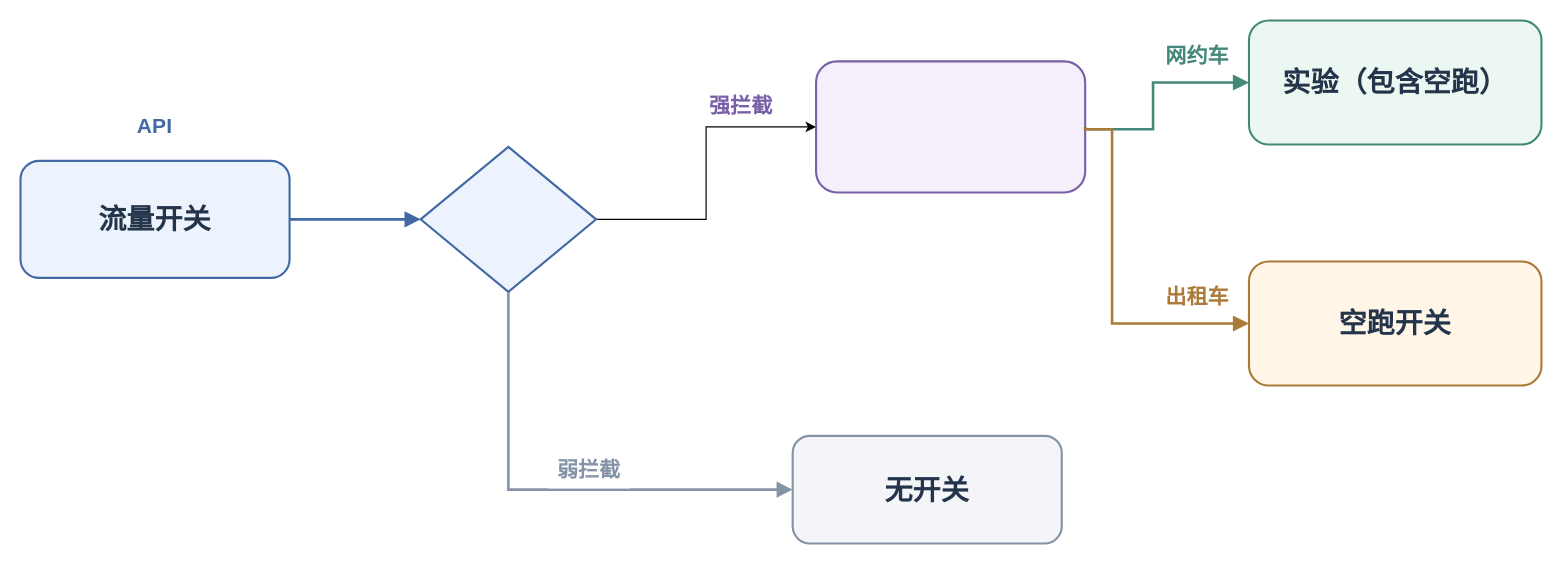
Image size: 1563x565. Some labels were removed from this diagram. Here are the shapes that lost their labels. From the top down, the centre of each, then its label:
At point 950,126: "开量 （出租车 + 城市）".
At point 508,218: "命中".
